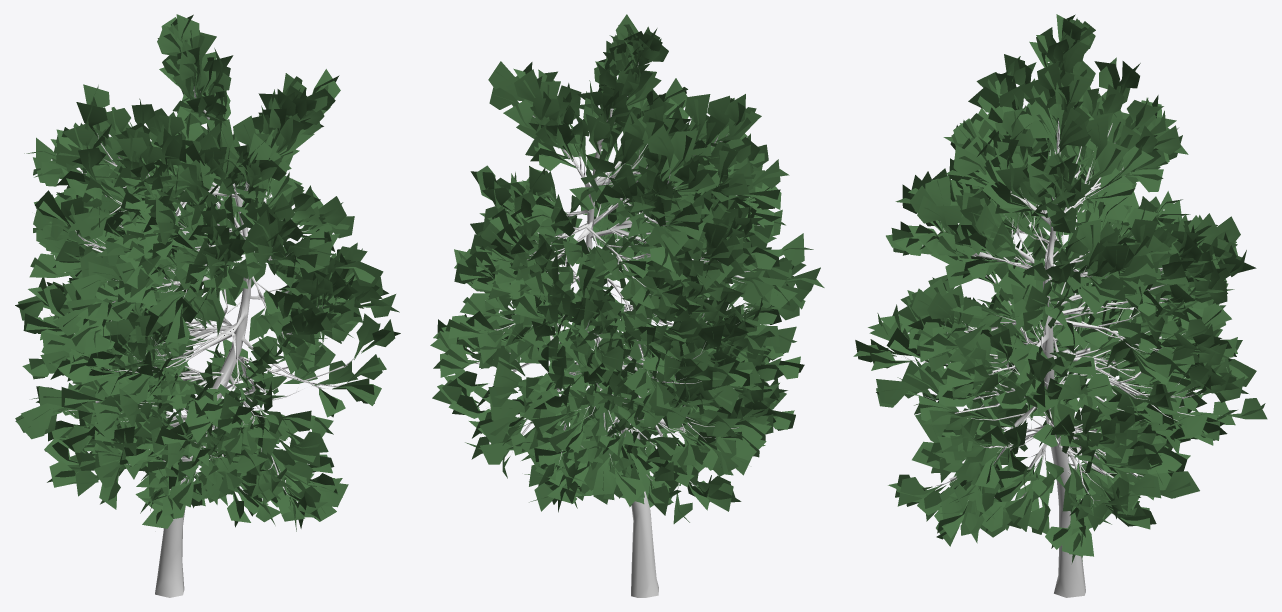
Rendered from Baum2.fbx.
3 views of the same model, side by side, from view 1: azimuth 30°, elevation 25°; view 2: azimuth 150°, elevation 25°; view 3: azimuth 270°, elevation 25° (orthographic). The views are drawn at different scales.
Parts seen in each view (by area): view 1: Tree_Pinus-ponderosa_D_spring-summer-autumn.002; view 2: Tree_Pinus-ponderosa_D_spring-summer-autumn.002; view 3: Tree_Pinus-ponderosa_D_spring-summer-autumn.002.
Boxes of the visible parts, left/top/right/bottom form: Tree_Pinus-ponderosa_D_spring-summer-autumn.002: left=15, top=14, right=400, bottom=597; Tree_Pinus-ponderosa_D_spring-summer-autumn.002: left=430, top=14, right=824, bottom=597; Tree_Pinus-ponderosa_D_spring-summer-autumn.002: left=853, top=14, right=1267, bottom=597.
Bounding box in the file's own units: 506 × 831 × 534.
